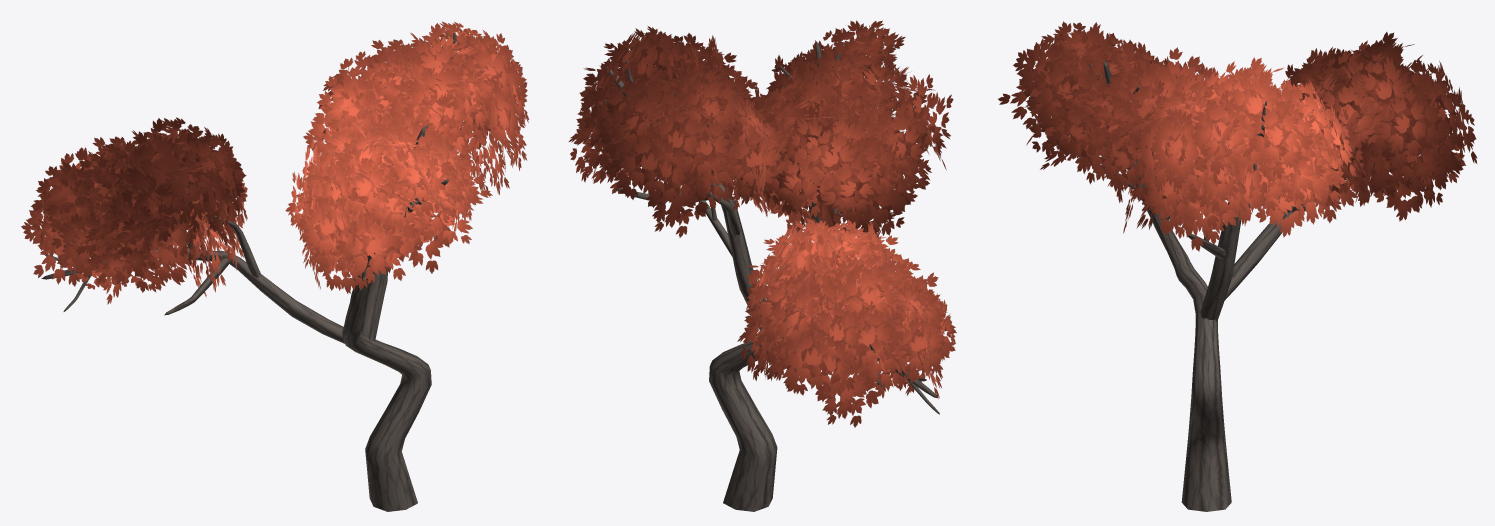
The model's file is MapleTree_2.glb.
The picture shows the model from 3 angles, left to right: view 1: azimuth 30°, elevation 25°; view 2: azimuth 150°, elevation 25°; view 3: azimuth 270°, elevation 25°; orthographic projection. The views are drawn at different scales.
Parts seen in each view (by area): view 1: MapleTree_2; view 2: MapleTree_2; view 3: MapleTree_2.
Part boxes in pixels (<box>): MapleTree_2: <box>21,21,529,511</box>; MapleTree_2: <box>568,20,956,511</box>; MapleTree_2: <box>998,21,1477,511</box>.
Size of the model in its own units: 6.7 by 6.71 by 6.24.
2 materials, 2 textured.
